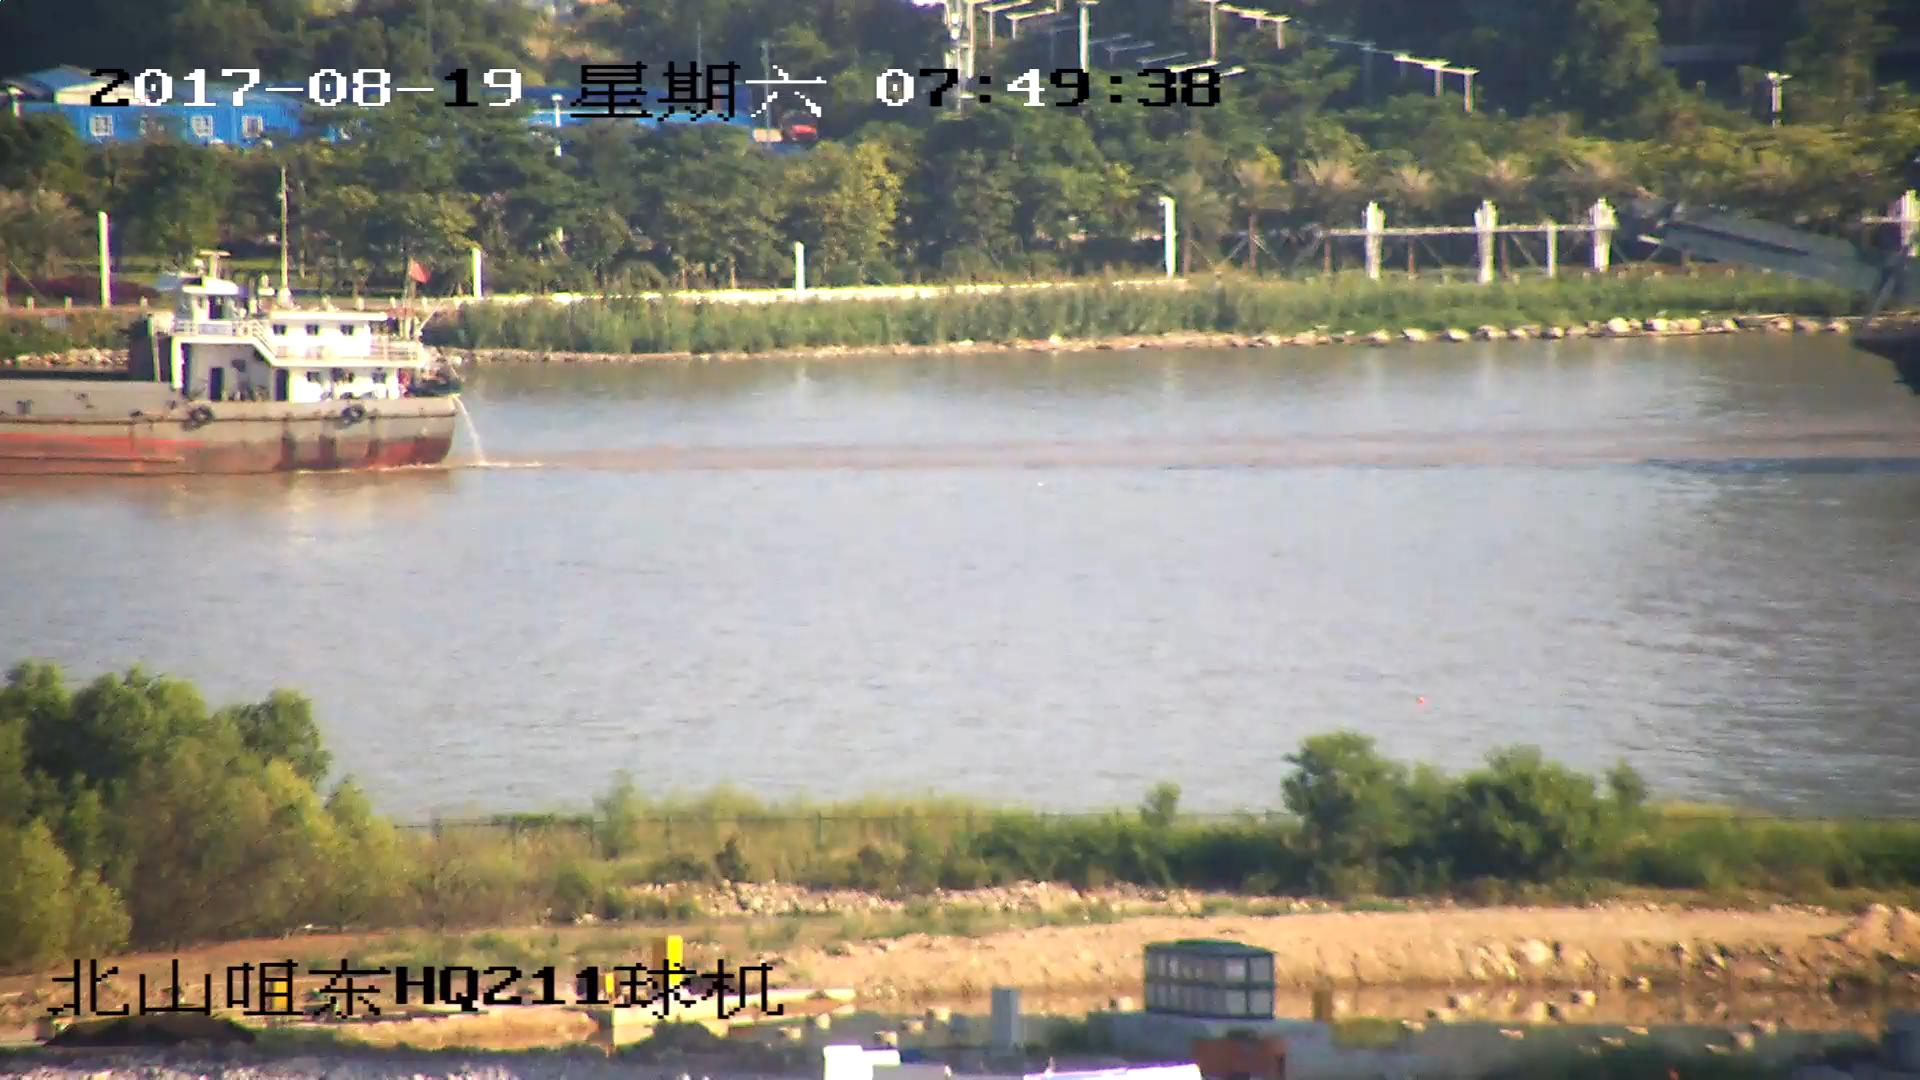bulk cargo carrier: (1, 258, 461, 484)
